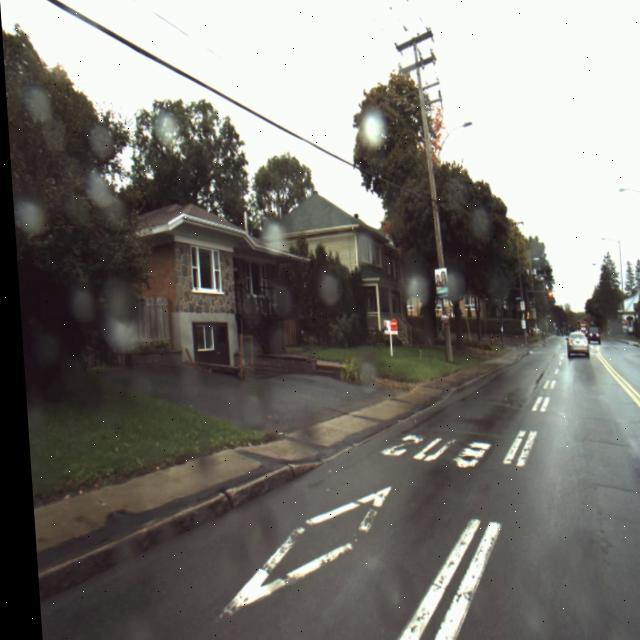trafficLight-Red: (540, 288, 550, 299)
